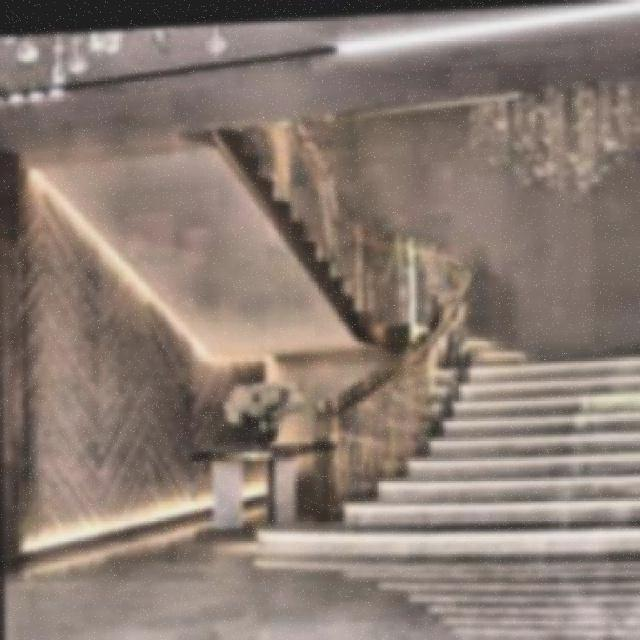stair: (248, 350, 640, 581)
